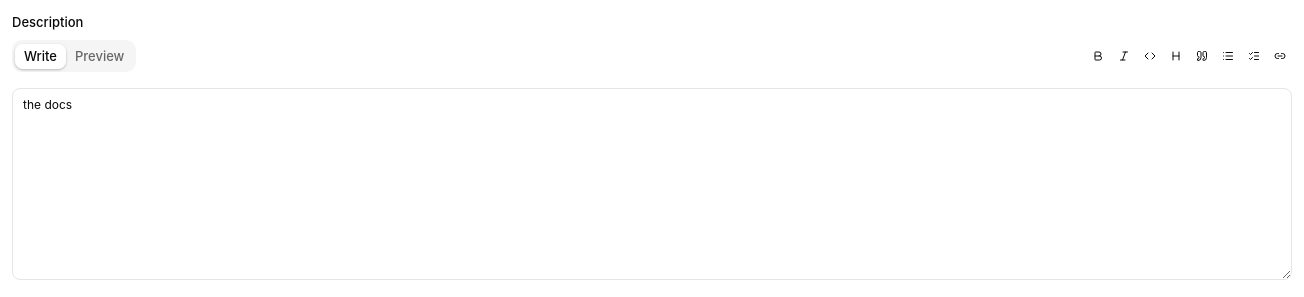
Test case: MarkdownField toolbar › builds a link with the selection as the text, leaving the URL to fill in
Step 1. Click the button named "Link" → [1280, 56], box [1268,44,1292,68]
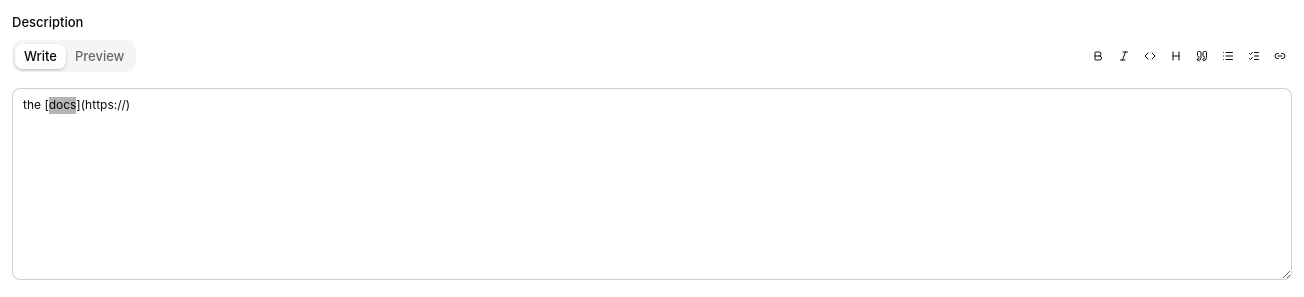
expect the text box named "Description" holds "the [docs](https://)": met
